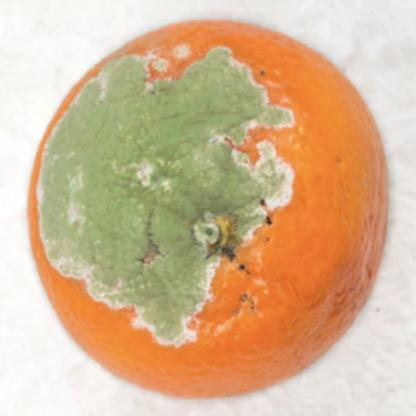rotten: (29, 19, 387, 394)
